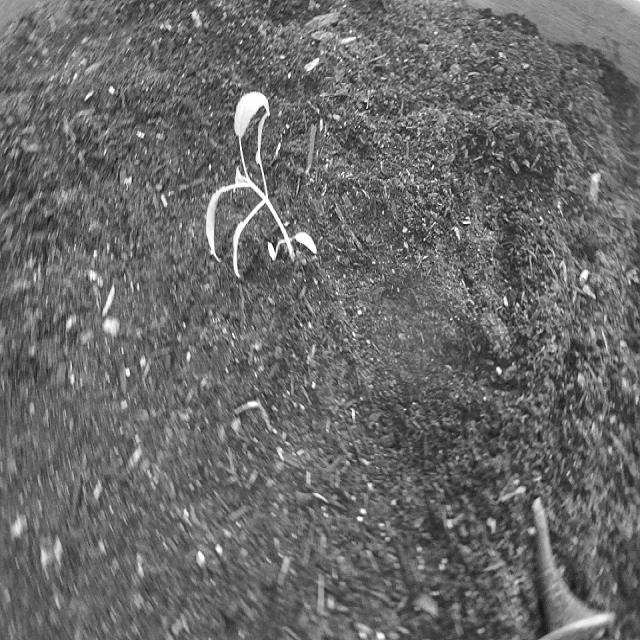Healthy: (204, 89, 320, 287)
